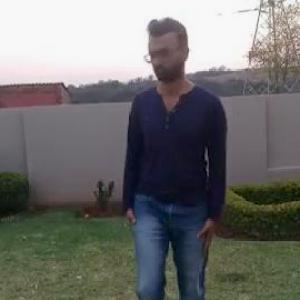follow: (111, 10, 232, 299)
